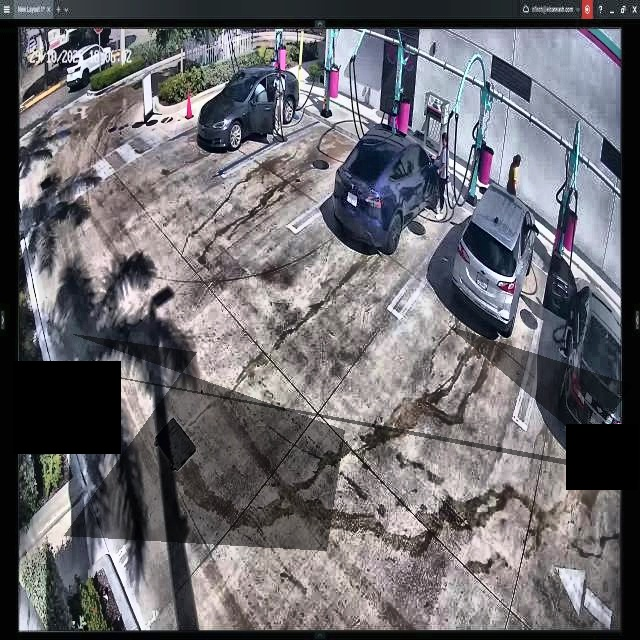Car: (332, 133, 442, 254), (451, 184, 531, 335), (195, 65, 300, 152)
